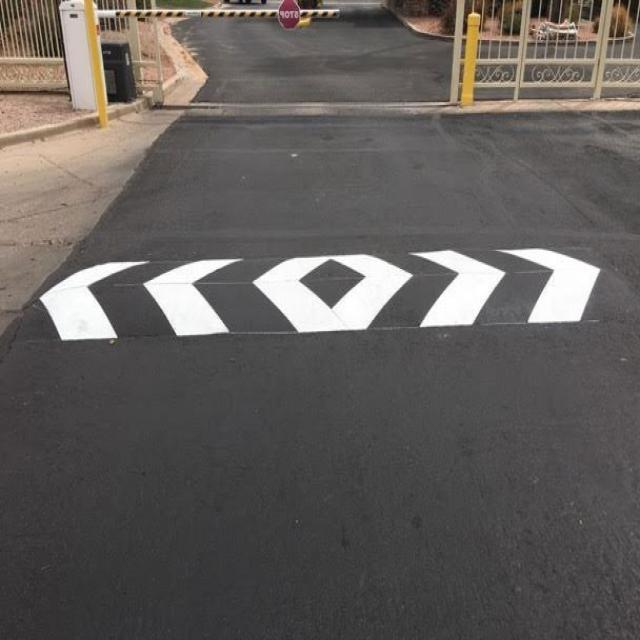speed-bump: (22, 211, 640, 351)
